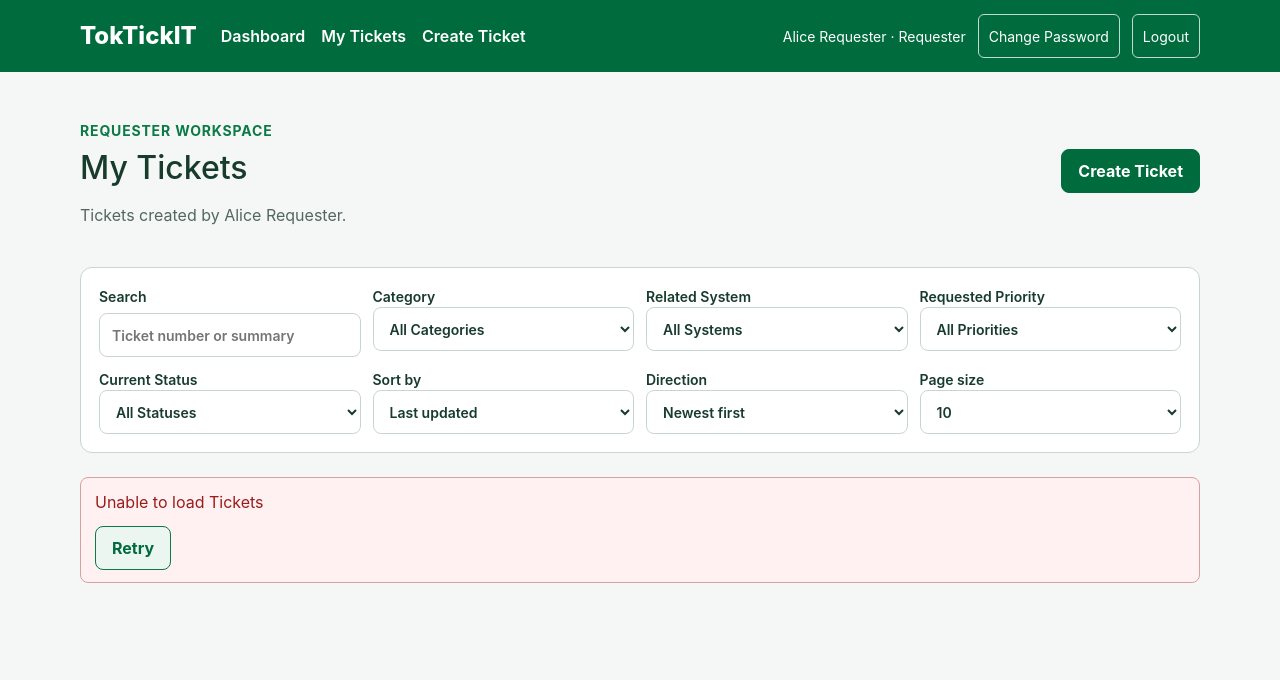
My Tickets screen › shows safe failure and retries while preserving filters
Expected: the heading "My Tickets" is shown, [80, 148, 248, 187]
Expected: the message shows "Unable to load Tickets", [95, 492, 264, 512]
Click the button "Retry" at (133, 548), box [95, 526, 171, 570]
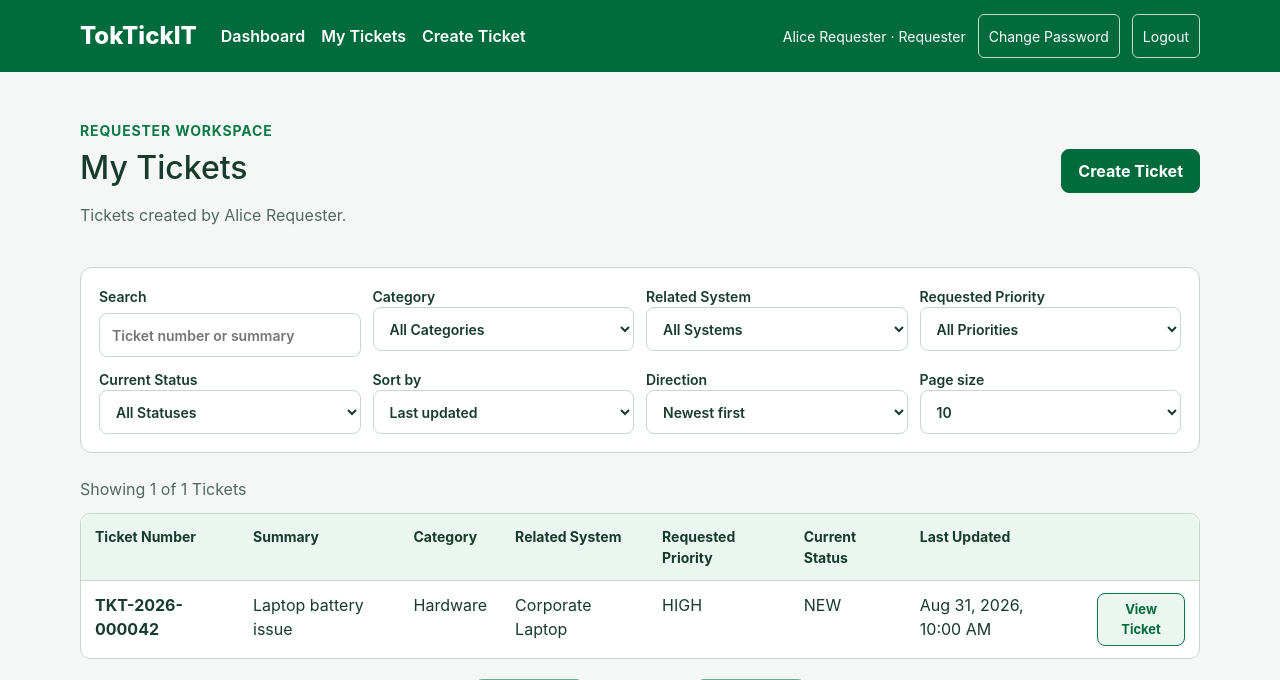
Expected: the text "TKT-2026-000042" is shown, [95, 595, 183, 639]
